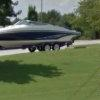Boat: (0, 13, 84, 59)
